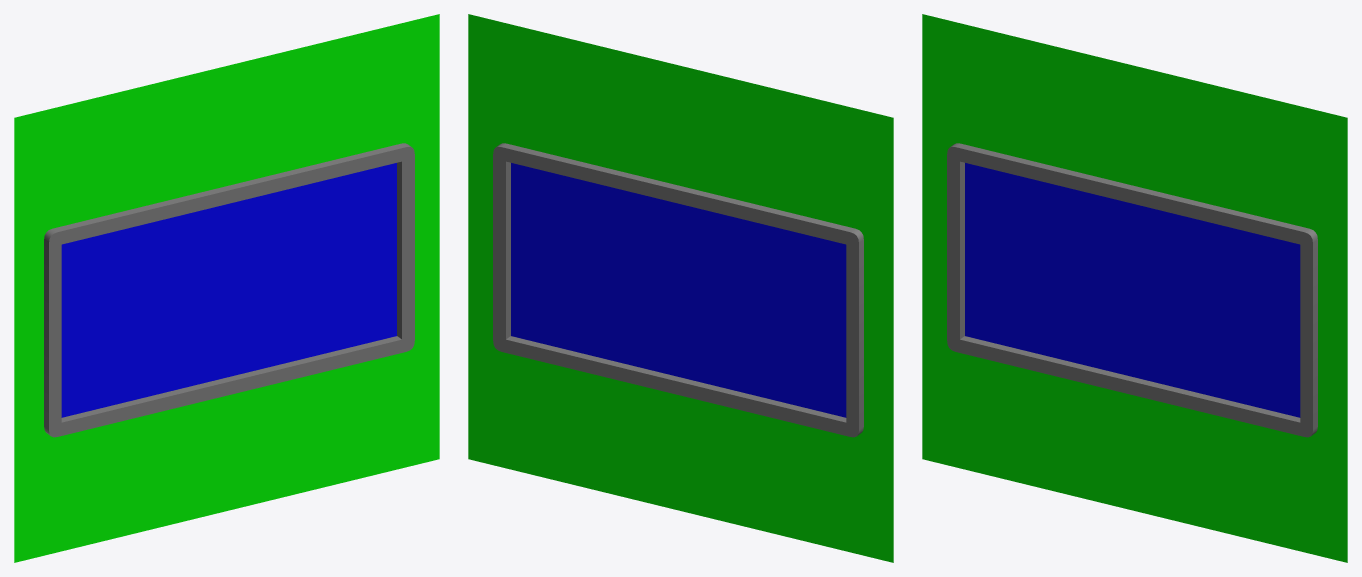
Rendered from Wall_Window.fbx.
The picture shows the model from 3 angles, left to right: view 1: azimuth 30°, elevation 25°; view 2: azimuth 150°, elevation 25°; view 3: azimuth 330°, elevation 25°; orthographic projection.
Visible parts, largest first — view 1: Wall_Window, WindowFrame; view 2: Wall_Window, WindowFrame; view 3: Wall_Window, WindowFrame.
Part boxes in pixels (x1,y1,x2,y2): Wall_Window: (14,14,439,562); WindowFrame: (44,143,414,437); Wall_Window: (468,14,893,562); WindowFrame: (493,143,863,437); Wall_Window: (922,14,1347,562); WindowFrame: (947,143,1317,437).
Bounding box in the file's own units: 5 × 5 × 0.2.
